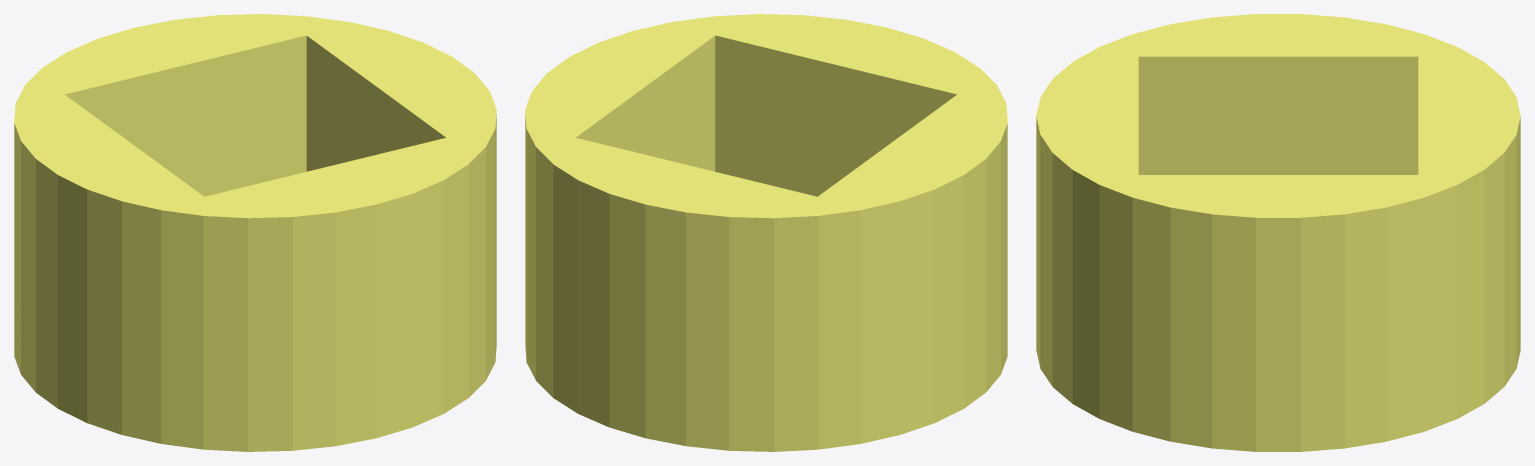
Rendered from transformer.obj.
The picture shows the model from 3 angles, left to right: view 1: azimuth 30°, elevation 25°; view 2: azimuth 150°, elevation 25°; view 3: azimuth 270°, elevation 25°; orthographic projection.
Parts seen in each view (by area): view 1: transformer; view 2: transformer; view 3: transformer.
Boxes of the visible parts, x1,y1,x2,y2 form: transformer: [14, 14, 496, 451]; transformer: [525, 14, 1007, 451]; transformer: [1036, 14, 1520, 451].
Size of the model in its own units: 0.0262 by 0.014 by 0.0263.
